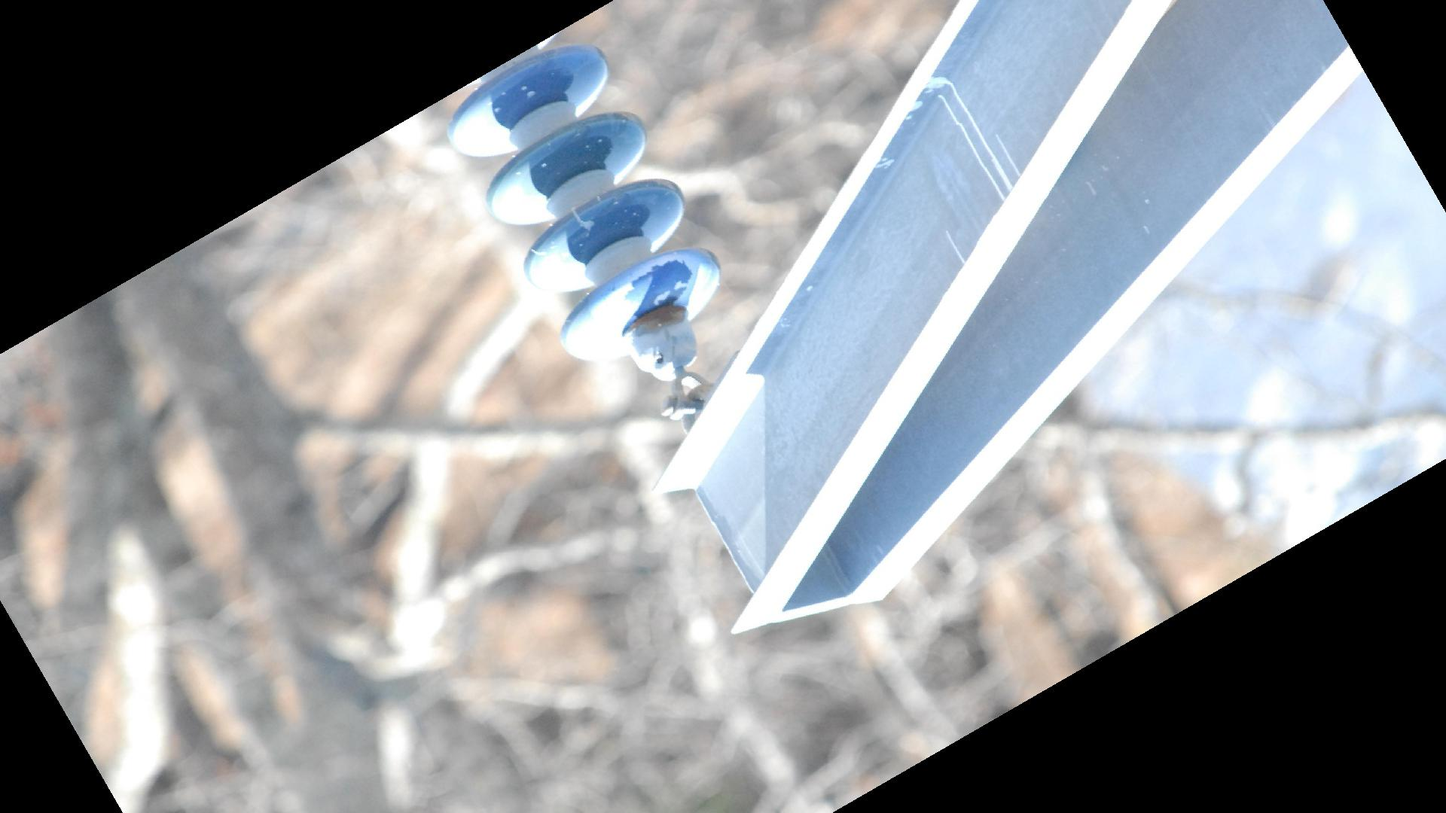insulator: (441, 36, 731, 370)
insulator_flashover: (625, 257, 695, 314)
